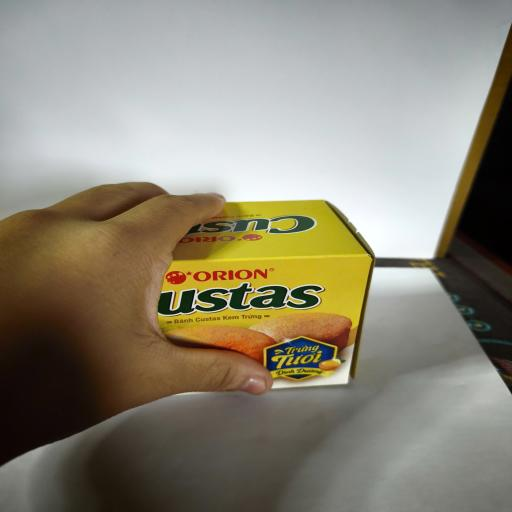custas: (158, 199, 375, 392)
